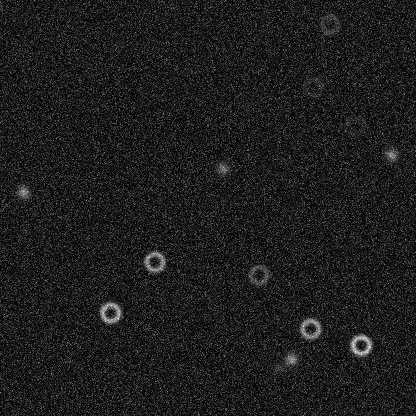Ring: (317, 12, 341, 36), (298, 316, 322, 340), (301, 74, 325, 98), (98, 300, 122, 324), (142, 249, 166, 273), (343, 113, 367, 137), (348, 333, 372, 357), (246, 262, 270, 286)
Spot: (214, 160, 230, 176), (270, 360, 286, 376), (15, 184, 31, 200), (383, 146, 399, 162), (283, 350, 299, 366)
